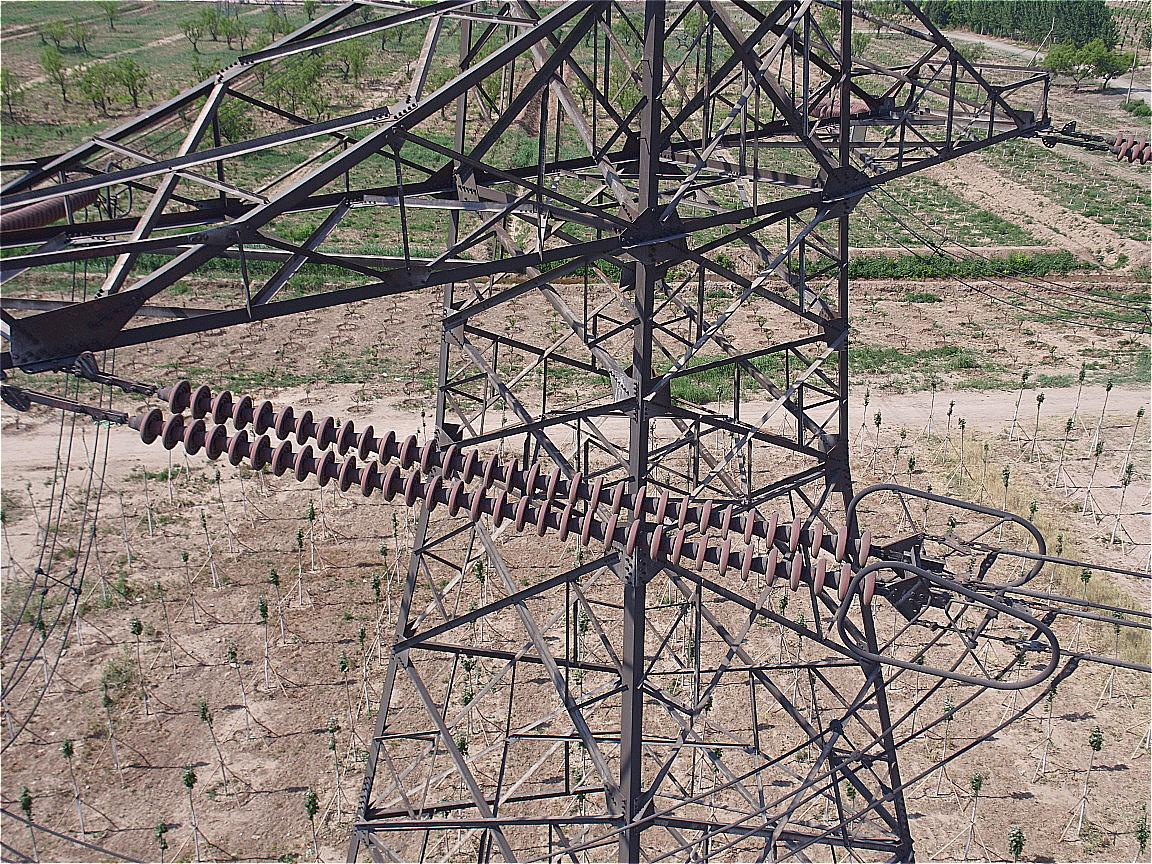insultor1: (139, 378, 875, 605)
